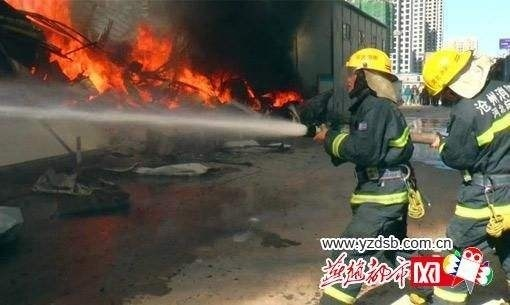fire: (13, 1, 287, 111)
